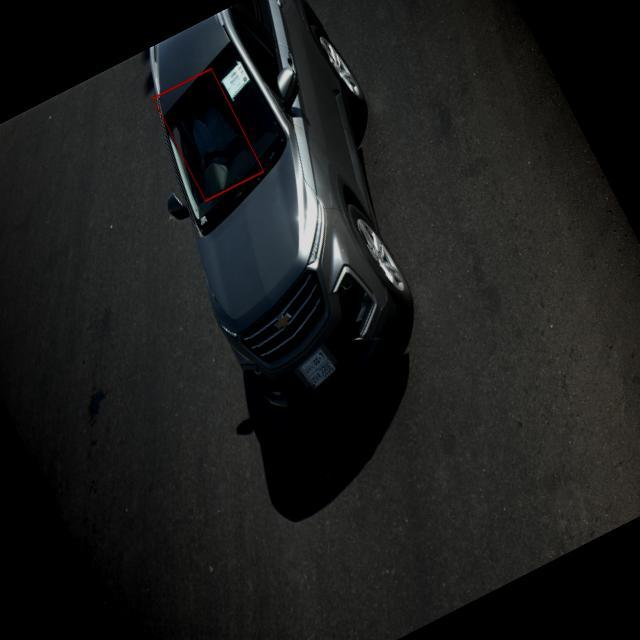windshield: (155, 36, 291, 237)
